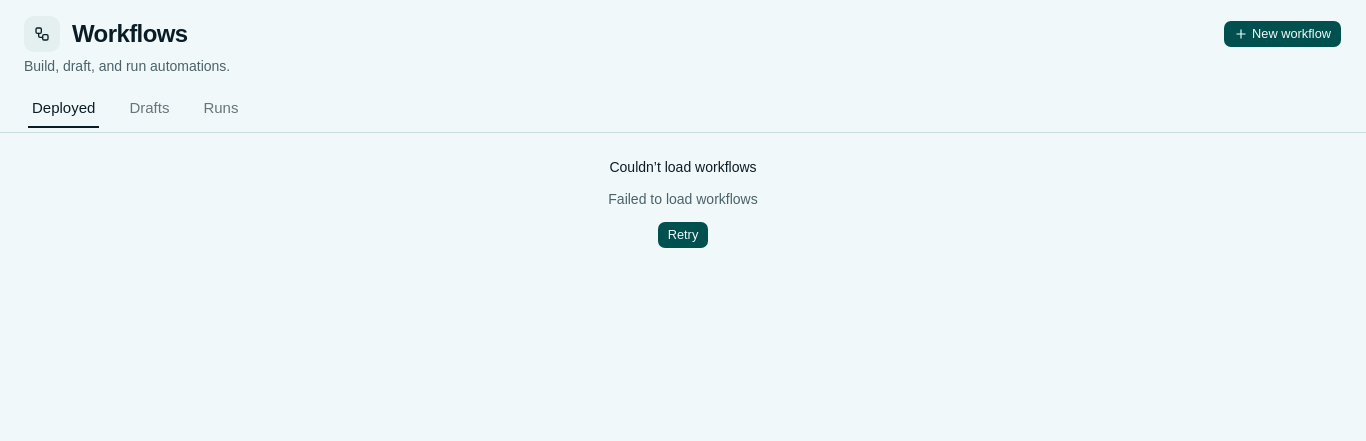
Scenario: WorkflowsPage › shows an error panel and retries hydration
Check: the message "Couldn’t load workflows Failed to load workflows Retry" is shown, box [608,159,758,249]
Check: the text "Couldn’t load workflows" is shown, box [610,157,757,177]
Click the button "Retry". click: (683, 235)
box: [657,221,709,249]
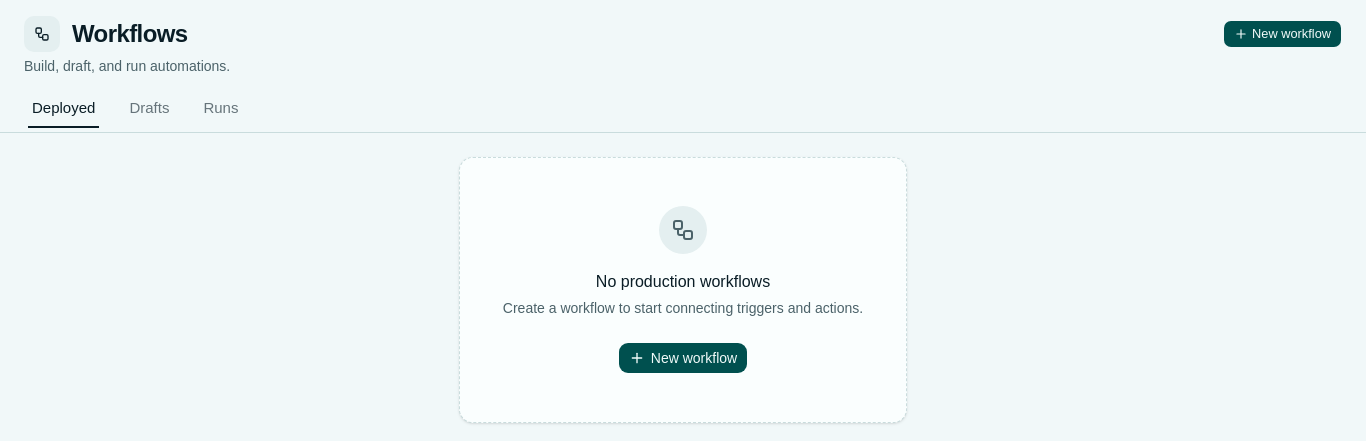
Check: the heading "No production workflows" is shown, box [596,270,770,294]
